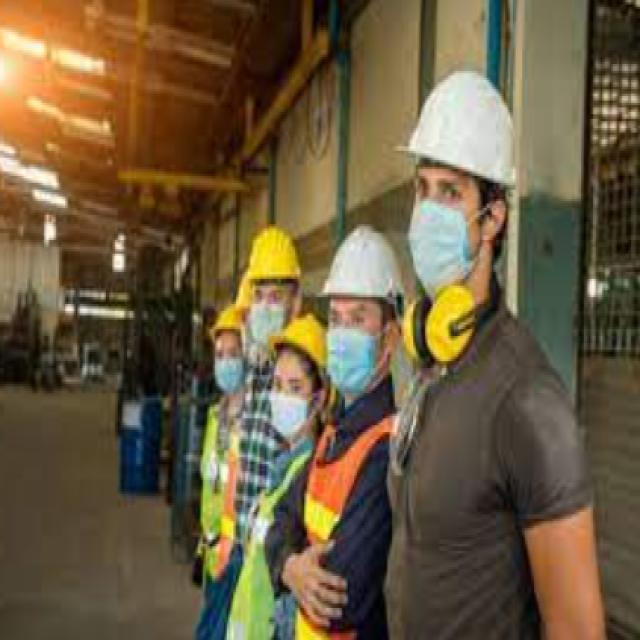hard_hat: (396, 67, 524, 297), (314, 220, 407, 406), (265, 308, 333, 445), (243, 223, 306, 349), (207, 302, 250, 400), (235, 262, 282, 332)
vest: (292, 407, 402, 640), (223, 436, 323, 640), (189, 397, 256, 589)
